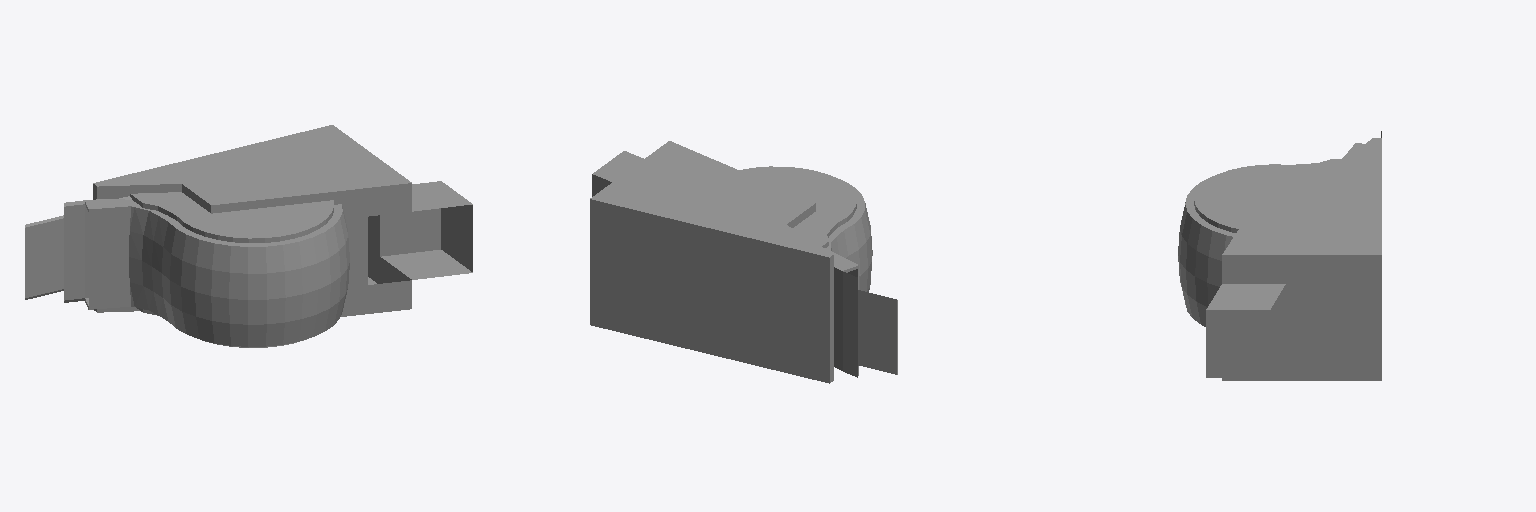
The model's file is dispenser.obj.
3 renders of one model, left to right at view 1: azimuth 30°, elevation 25°; view 2: azimuth 150°, elevation 25°; view 3: azimuth 270°, elevation 25°, orthographic.
Visible parts, largest first — view 1: Sphere; view 2: Sphere; view 3: Sphere.
Boxes of the visible parts, <box> form: Sphere: <box>25,125,472,347</box>; Sphere: <box>590,141,897,383</box>; Sphere: <box>1178,131,1381,380</box>.
Size of the model in its own units: 2.41 by 0.8032 by 1.18.